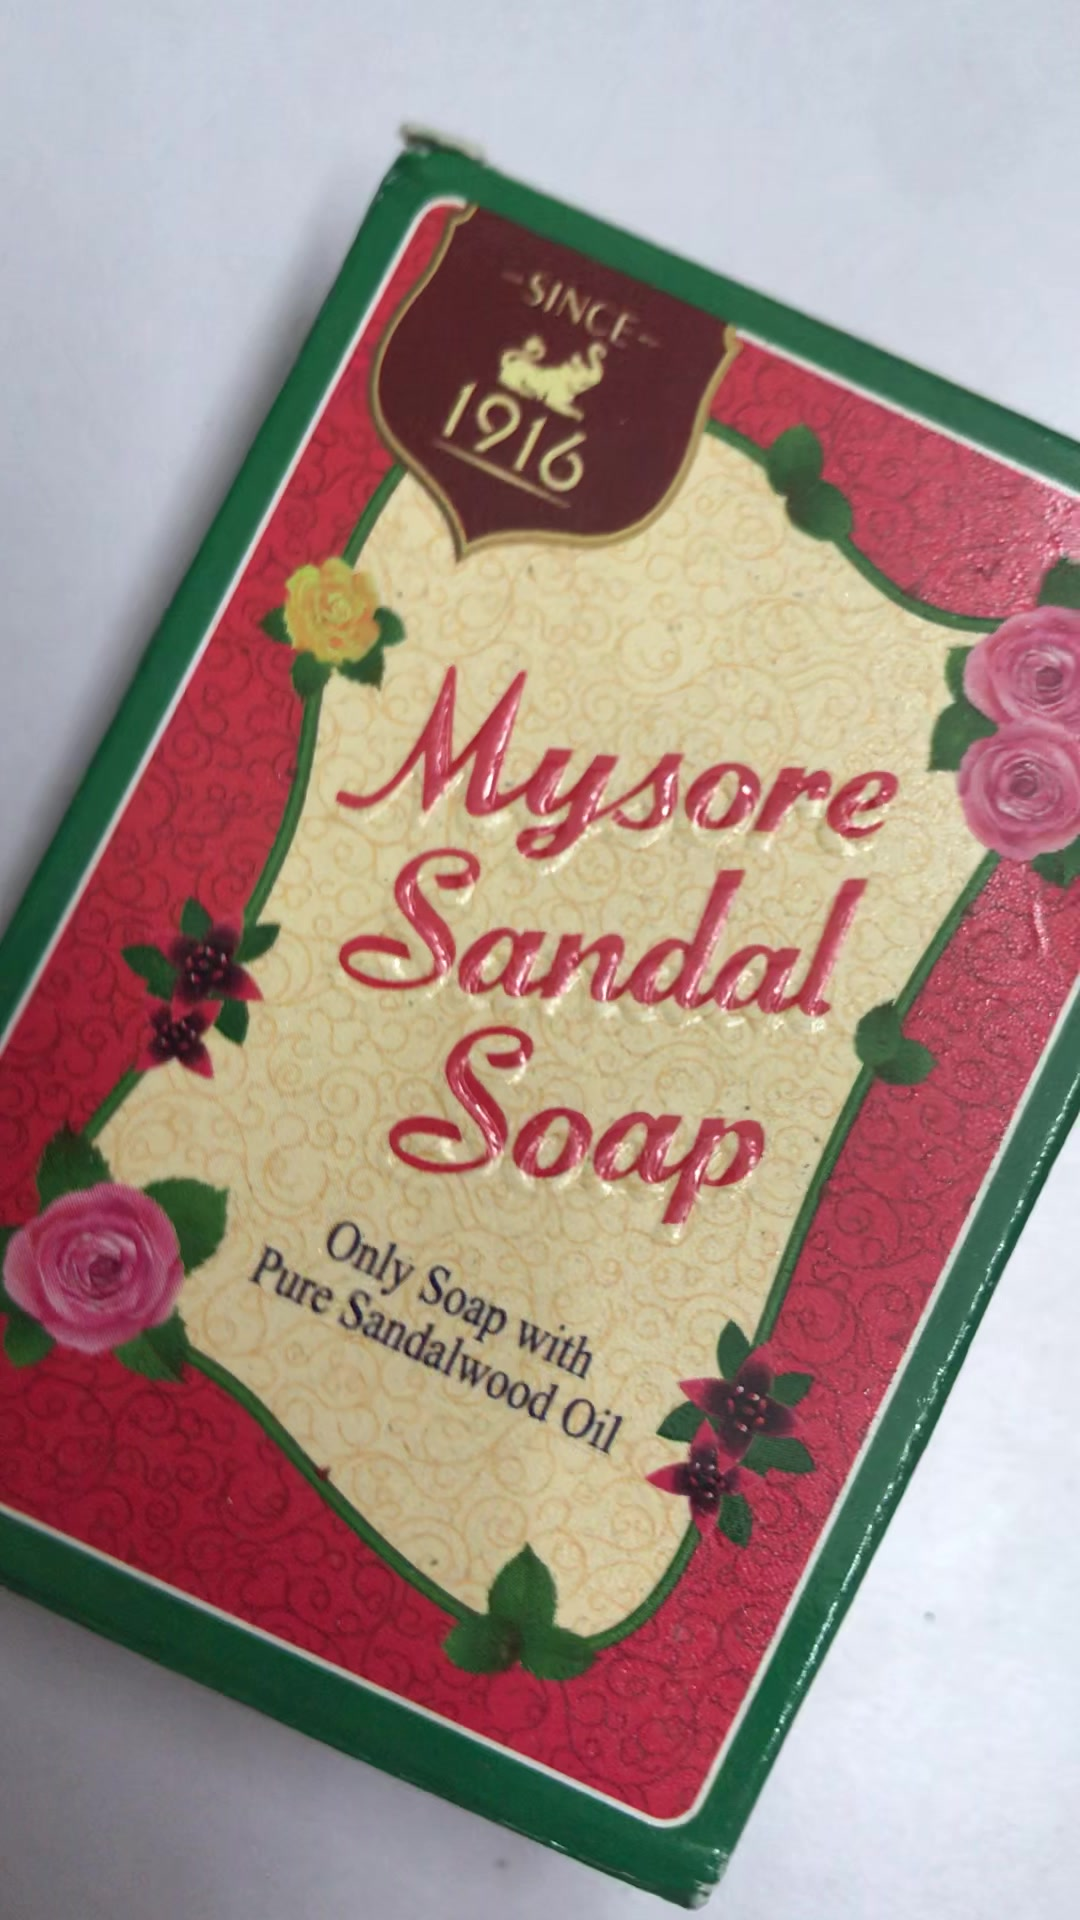mysore sandal soap: (1, 124, 1072, 1911)
